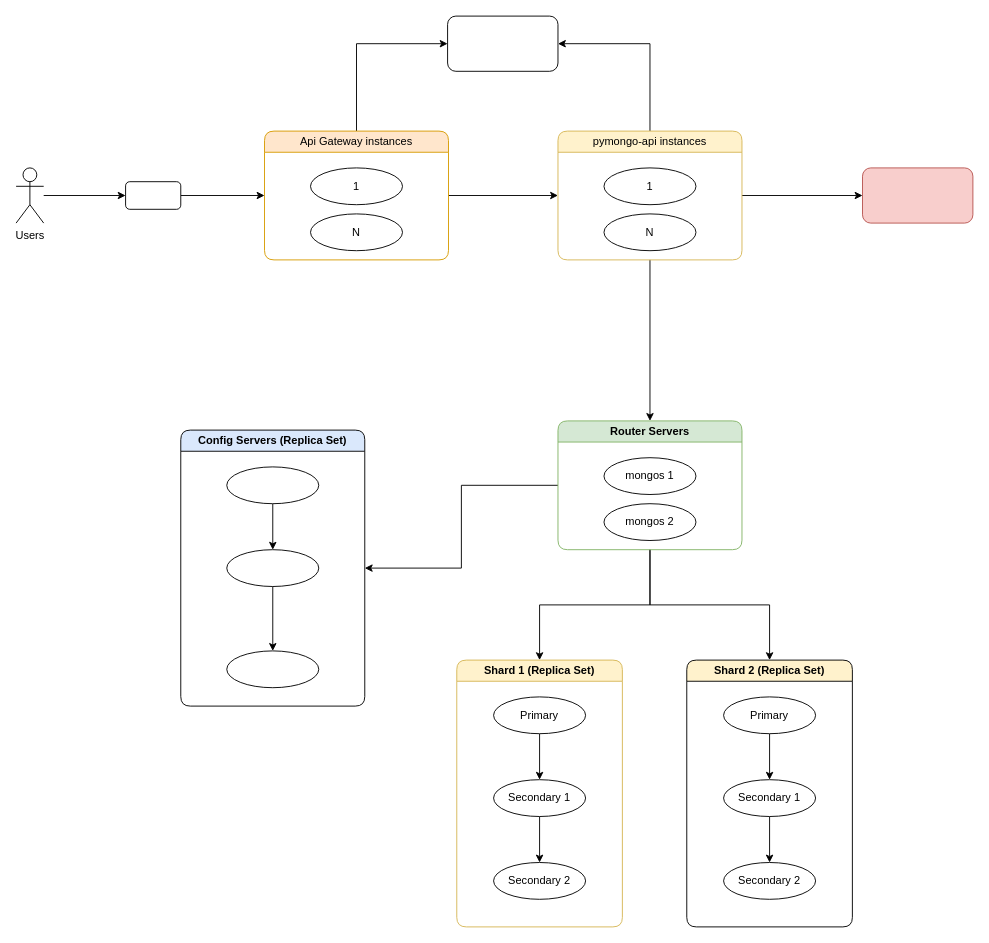
Image size: 989x943. Some labels were removed from this diagram. The centre of each missing label's shape, as x and y in pixels:
configSrv Primary: the point at 272,485
configSrv Secondary 1: the point at 272,567
configSrv Secondary 2: the point at 272,669
Consul: the point at 502,43
NGINX: the point at 153,195
Redis: the point at 917,195
